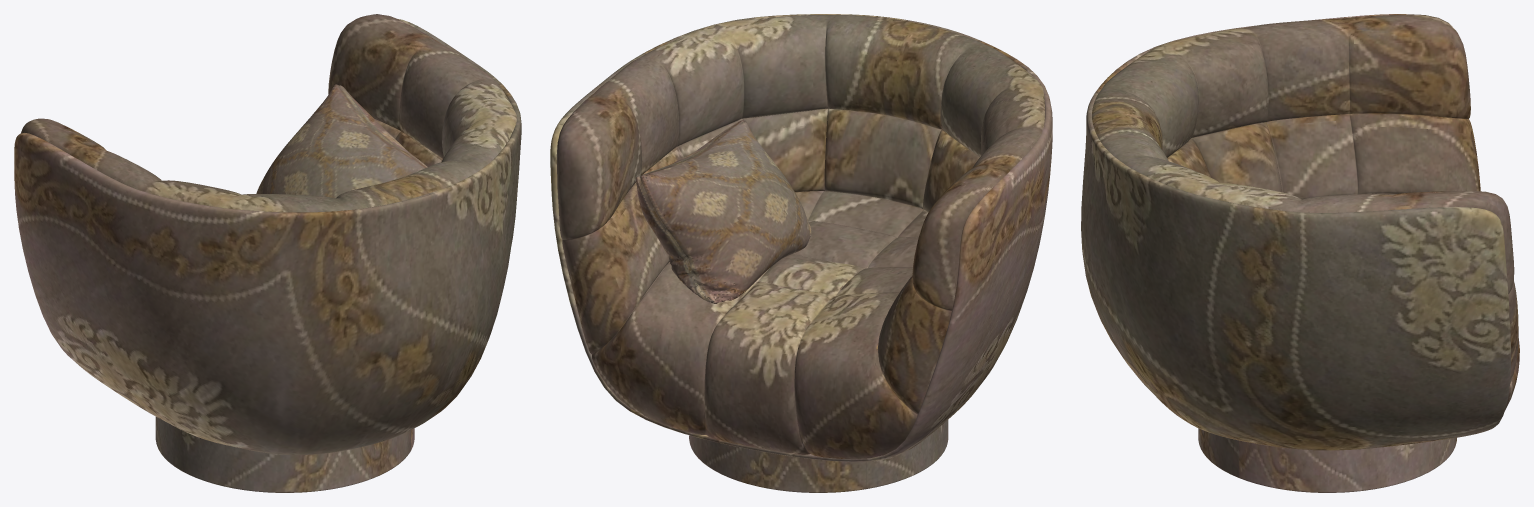
3 renders of one model, left to right at view 1: azimuth 30°, elevation 25°; view 2: azimuth 150°, elevation 25°; view 3: azimuth 270°, elevation 25°, orthographic.
Parts seen in each view (by area): view 1: Pillow; view 2: Pillow; view 3: Pillow.
Boxes of the visible parts, bbox=[...] form: Pillow: bbox=[14, 14, 521, 492]; Pillow: bbox=[550, 14, 1052, 492]; Pillow: bbox=[1081, 14, 1519, 492].
Bounding box in the file's own units: 6.22 × 4.68 × 5.66.
Materials: 1 (1 with a texture image).
